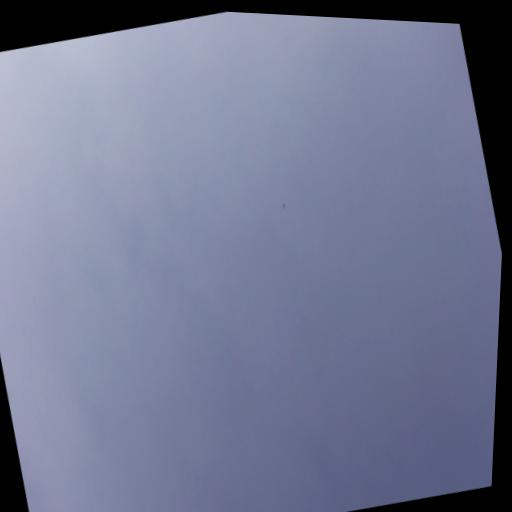drones: (280, 201, 287, 210)
